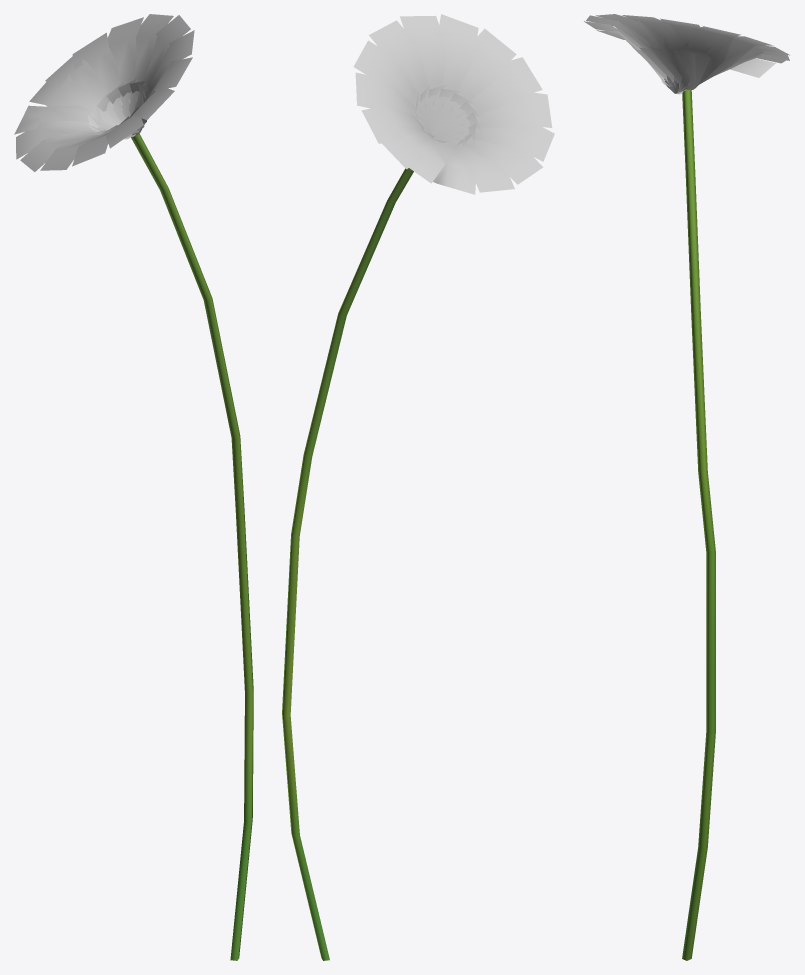
File: SM_flower_09.fbx
The picture shows the model from 3 angles, left to right: view 1: azimuth 30°, elevation 25°; view 2: azimuth 150°, elevation 25°; view 3: azimuth 270°, elevation 25°; orthographic projection. The views are drawn at different scales.
Visible parts, largest first — view 1: SM_flower_09; view 2: SM_flower_09; view 3: SM_flower_09.
Boxes of the visible parts, x1,y1,x2,y2 form: SM_flower_09: (14, 14, 253, 960); SM_flower_09: (282, 14, 554, 960); SM_flower_09: (584, 14, 789, 960).
Bounding box in the file's own units: 21.36 × 80.66 × 16.59.
